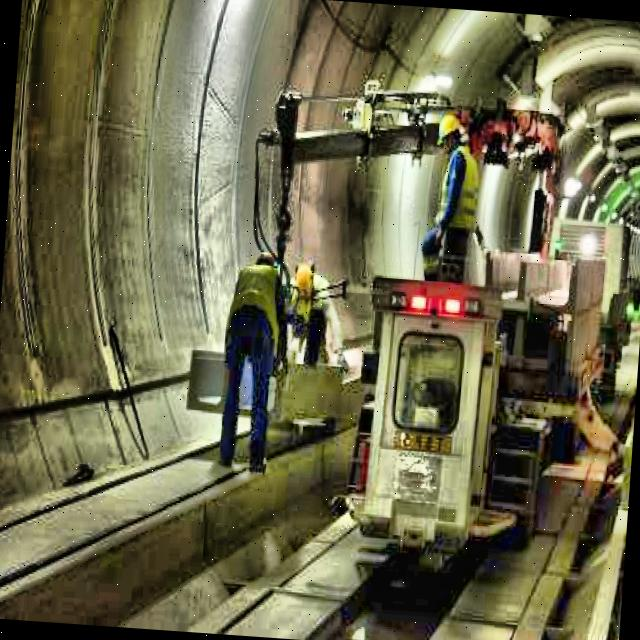helmet: (432, 110, 463, 165), (288, 260, 321, 302)
